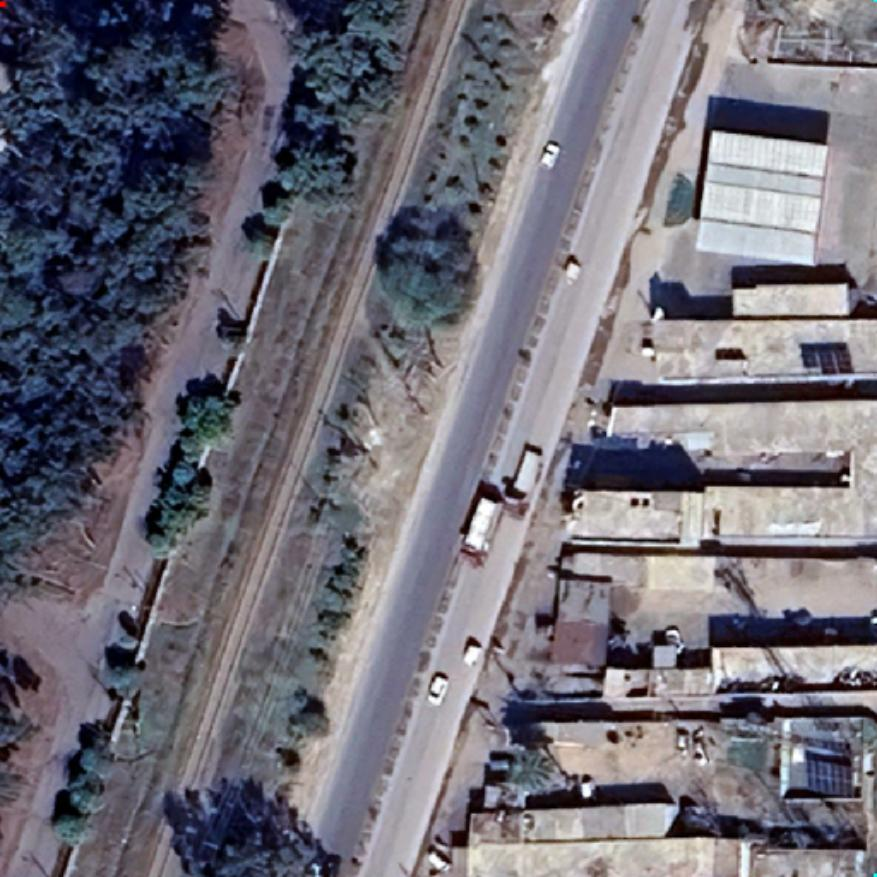Solarpanel: (799, 751, 861, 801), (796, 339, 860, 379)
